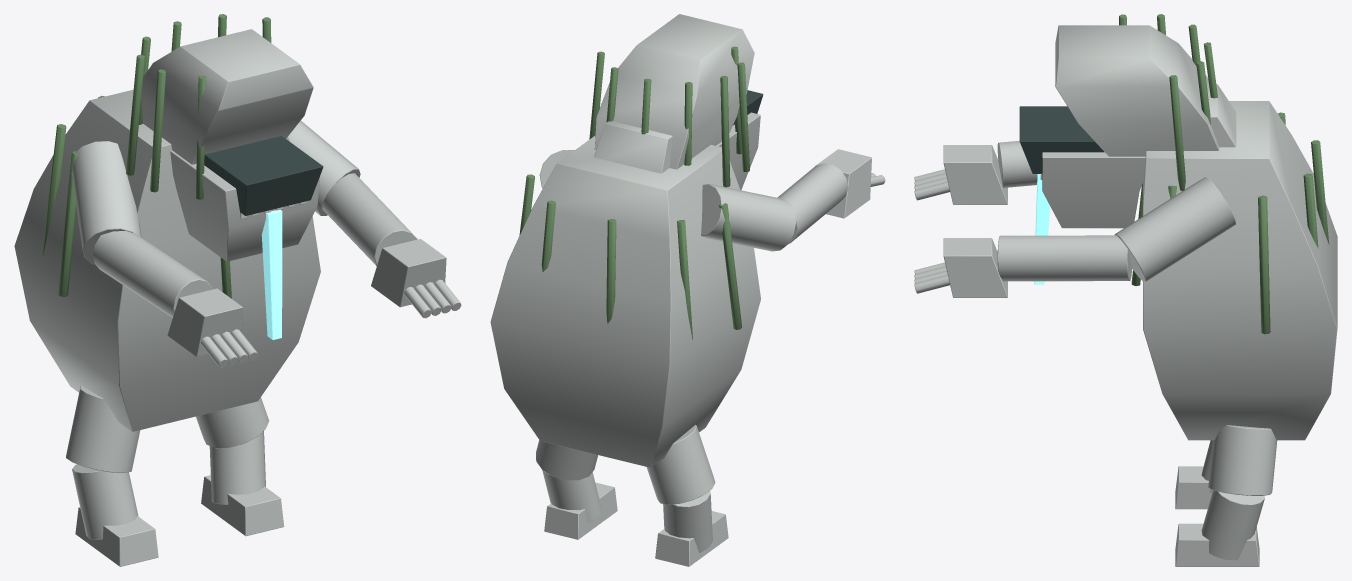
File: MN_drowned.fbx
3 renders of one model, left to right at view 1: azimuth 30°, elevation 25°; view 2: azimuth 150°, elevation 25°; view 3: azimuth 270°, elevation 25°, orthographic. The views are drawn at different scales.
Visible parts, largest first — view 1: MN_drowned; view 2: MN_drowned; view 3: MN_drowned.
Part boxes in pixels (left/top/right/bottom): MN_drowned: left=14, top=14, right=461, bottom=566; MN_drowned: left=490, top=14, right=885, bottom=566; MN_drowned: left=914, top=14, right=1337, bottom=566.
Bounding box in the file's own units: 0.9207 × 1.66 × 1.3.
